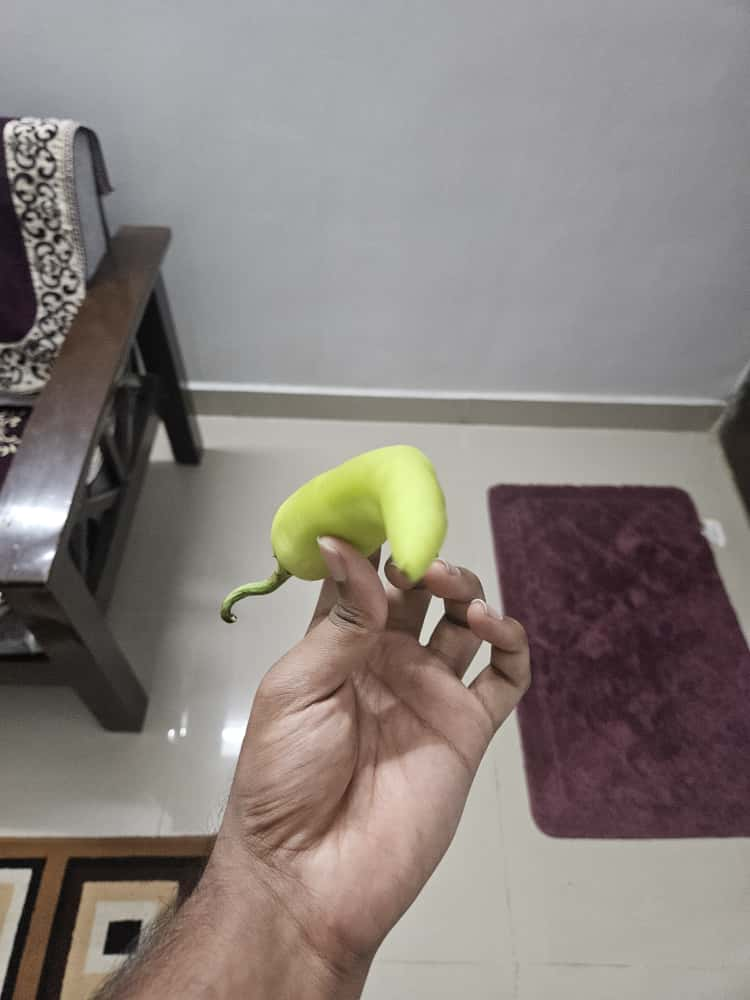wet: (222, 438, 488, 609)
